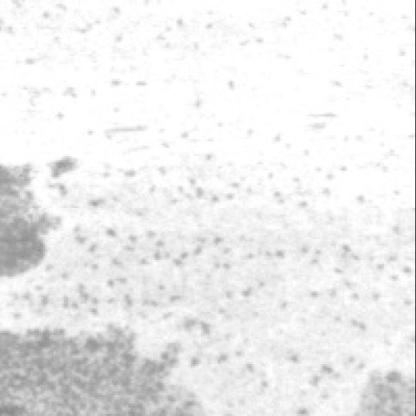pitted_surface: (58, 155, 416, 316), (6, 320, 202, 414), (2, 158, 52, 285), (356, 347, 416, 413)
